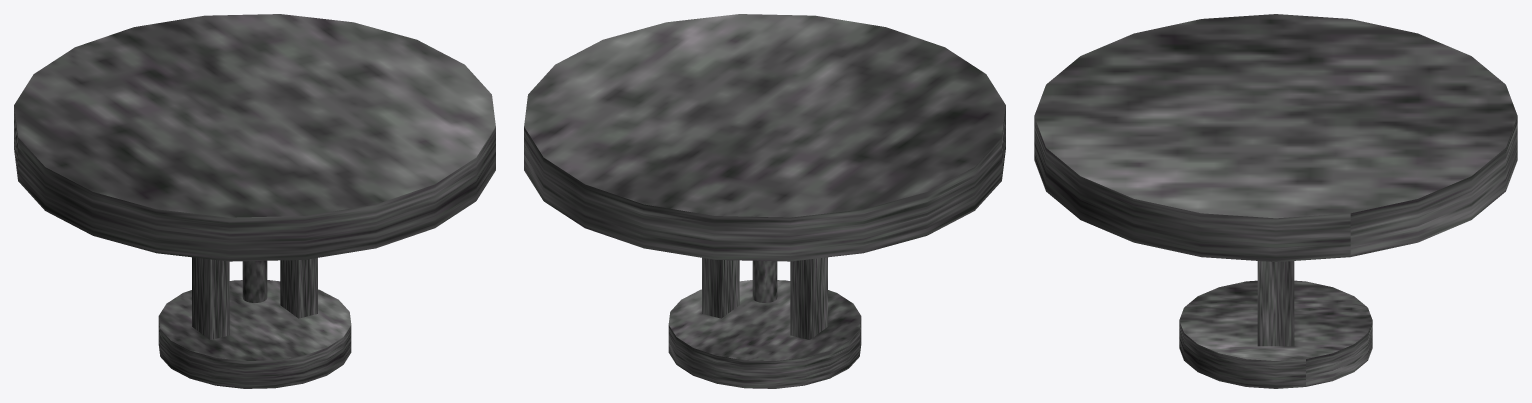
File: sm21_034_ceilingsprinkler01a.fbx
3 renders of one model, left to right at view 1: azimuth 30°, elevation 25°; view 2: azimuth 150°, elevation 25°; view 3: azimuth 270°, elevation 25°, orthographic.
Visible parts, largest first — view 1: LOD_1_Group_0_Sub_1__sm21_034_CeilingSprinkler01A_B_Mat, LOD_1_Group_0_Sub_2__sm21_034_CeilingSprinkler01A_A_Mat; view 2: LOD_1_Group_0_Sub_1__sm21_034_CeilingSprinkler01A_B_Mat, LOD_1_Group_0_Sub_2__sm21_034_CeilingSprinkler01A_A_Mat; view 3: LOD_1_Group_0_Sub_1__sm21_034_CeilingSprinkler01A_B_Mat.
Part boxes in pixels (box(x1,y1,x2,y2)): LOD_1_Group_0_Sub_1__sm21_034_CeilingSprinkler01A_B_Mat: box(14, 14, 495, 388); LOD_1_Group_0_Sub_2__sm21_034_CeilingSprinkler01A_A_Mat: box(242, 260, 267, 302); LOD_1_Group_0_Sub_1__sm21_034_CeilingSprinkler01A_B_Mat: box(524, 14, 1005, 388); LOD_1_Group_0_Sub_2__sm21_034_CeilingSprinkler01A_A_Mat: box(752, 260, 777, 302); LOD_1_Group_0_Sub_1__sm21_034_CeilingSprinkler01A_B_Mat: box(1034, 14, 1517, 388).
Bounding box in the file's own units: 20 × 10.59 × 20.
